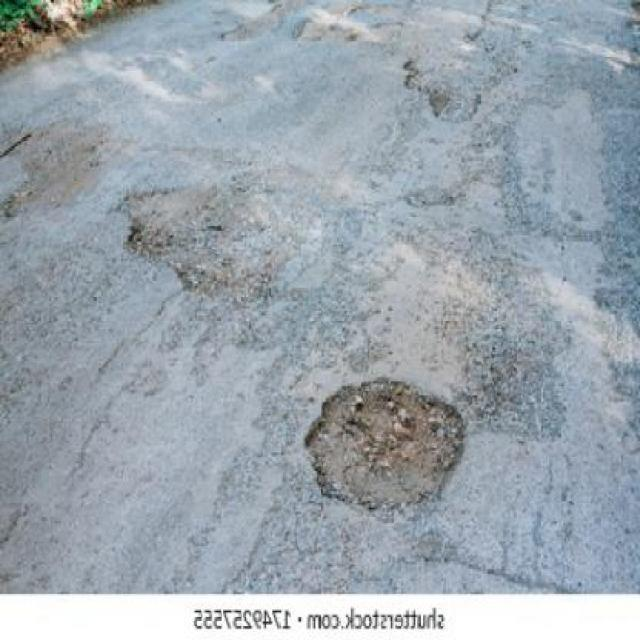Pothole: (112, 159, 326, 304), (299, 375, 470, 524)
